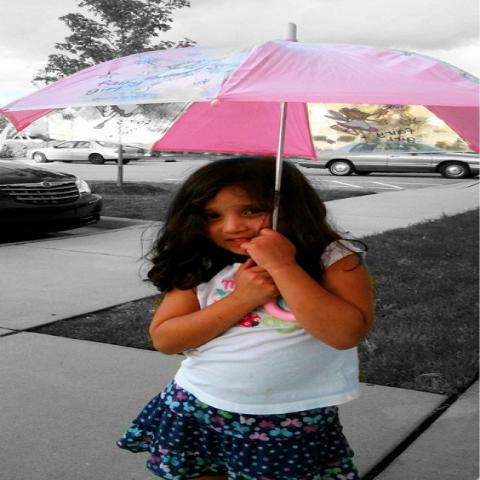car: (0, 159, 103, 244), (296, 142, 479, 179), (25, 139, 145, 165)
